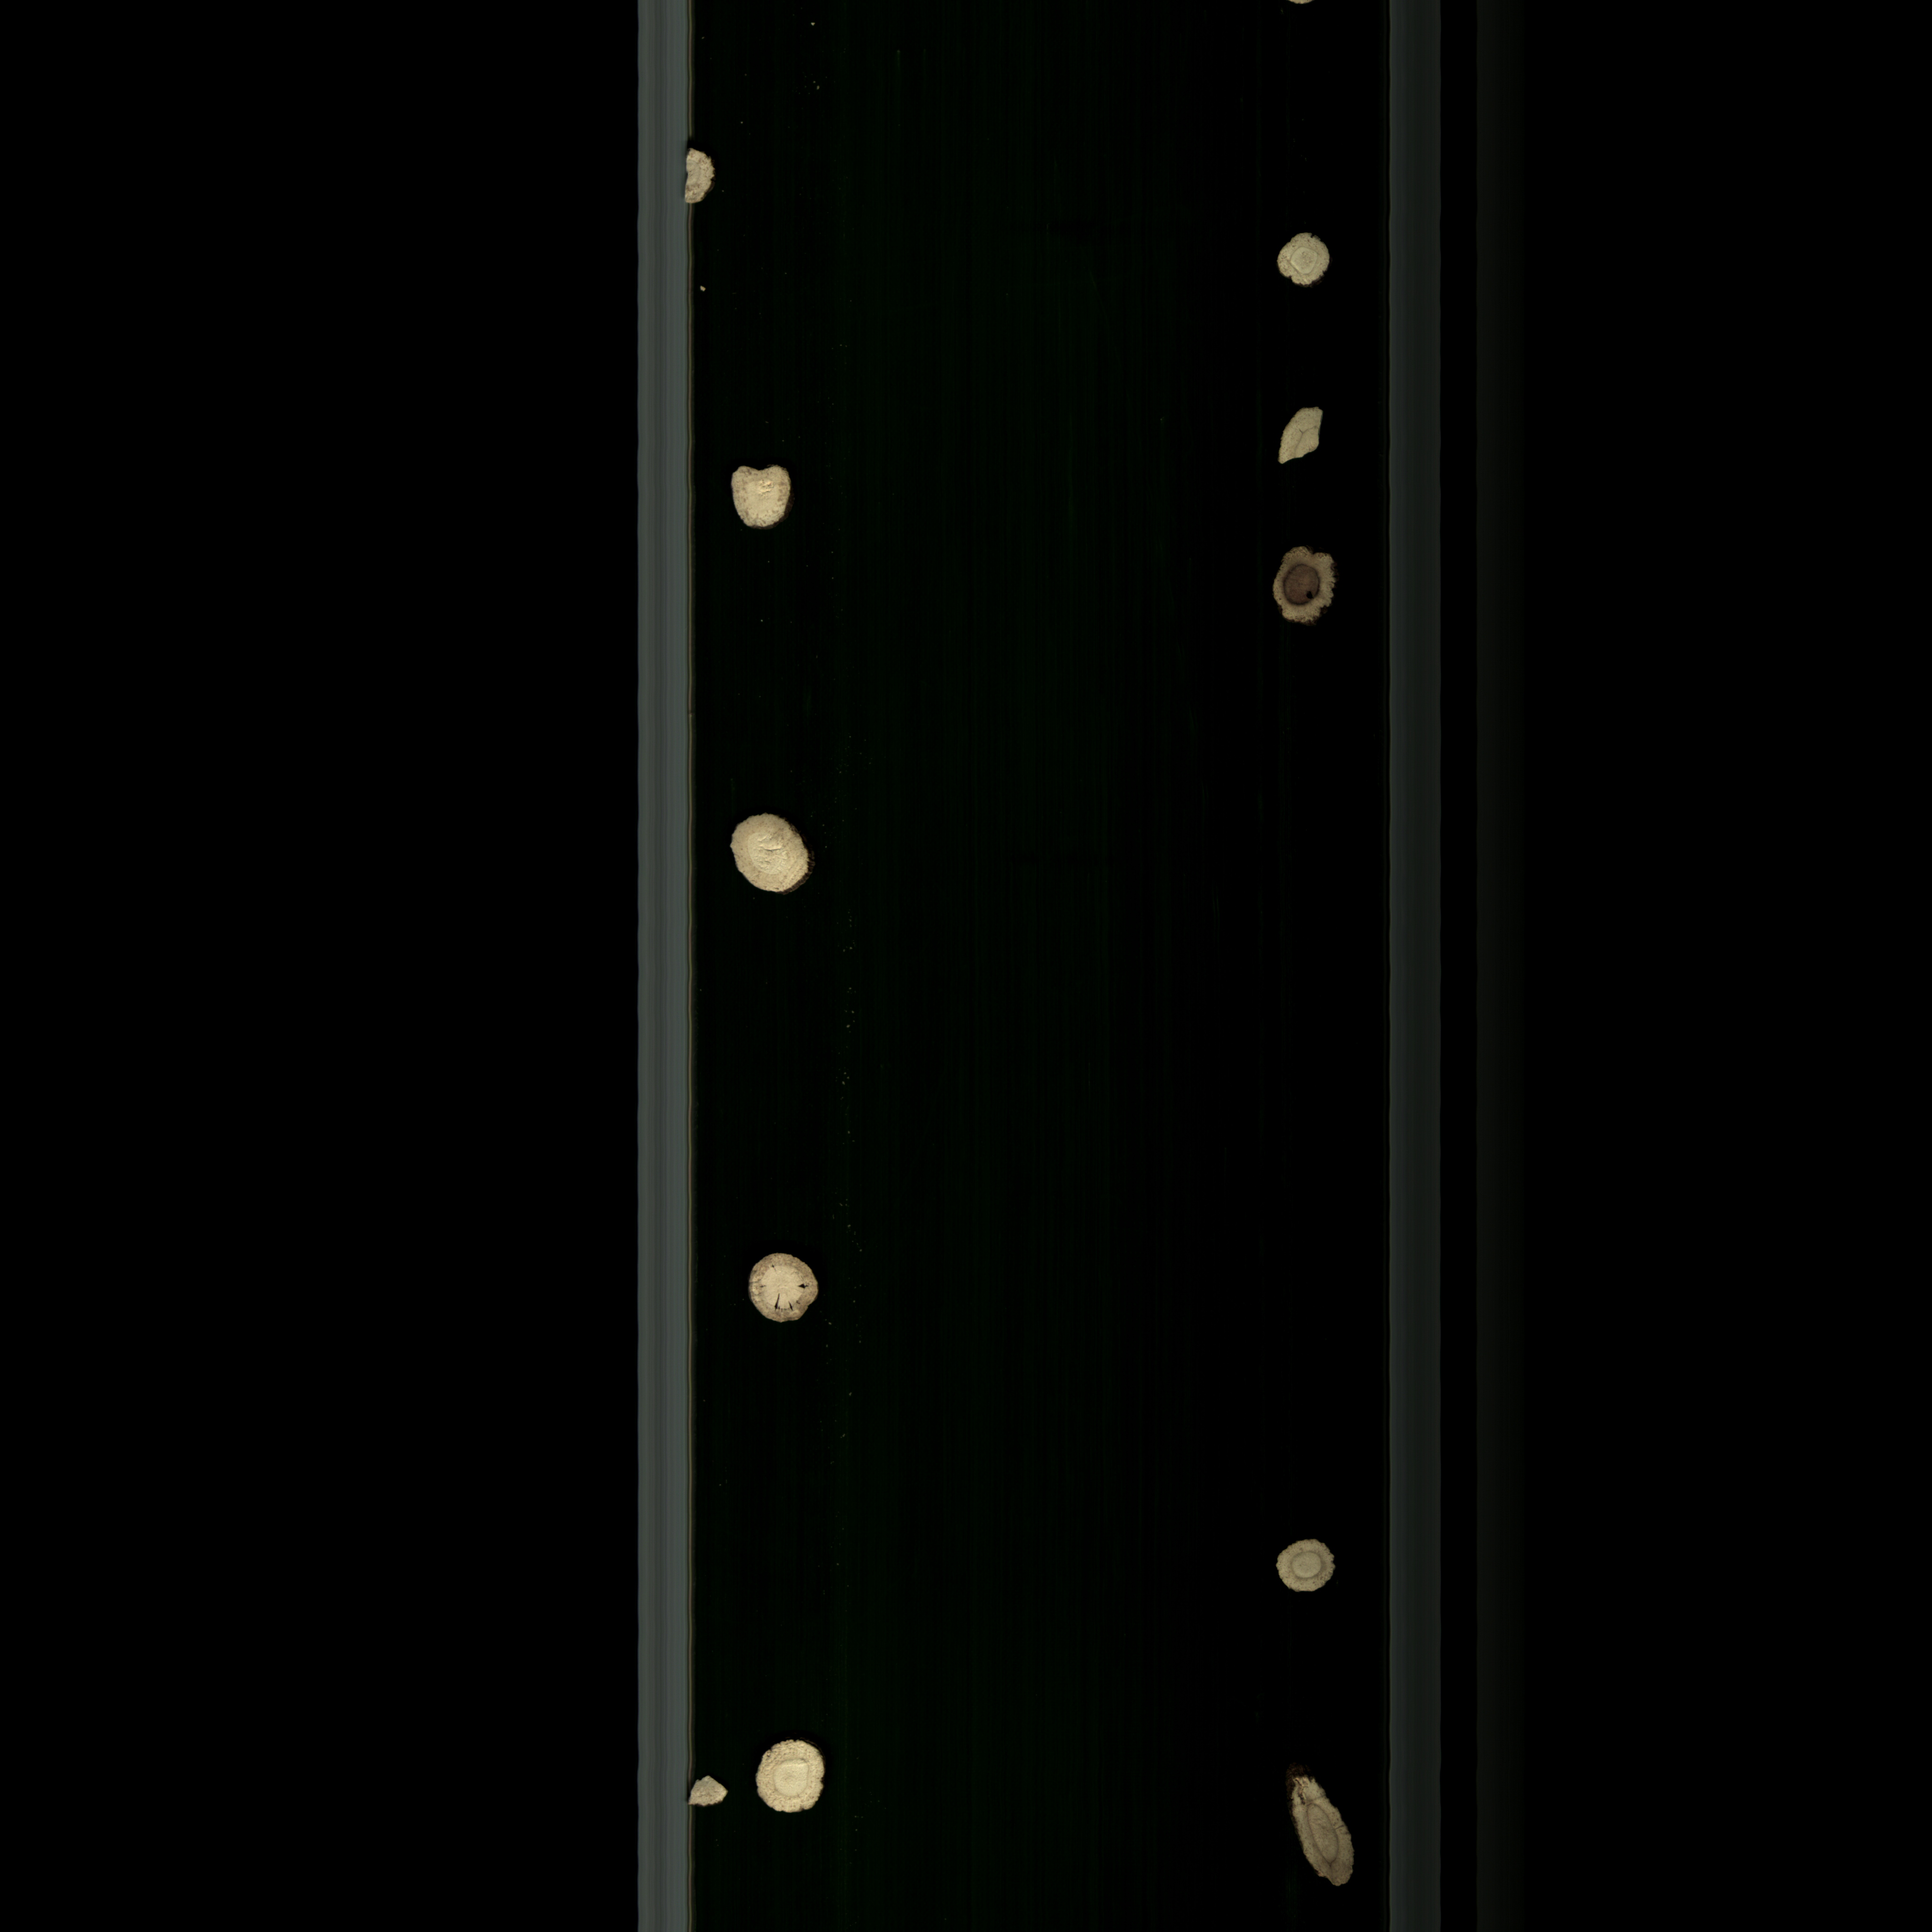debris: (1276, 393, 1338, 481)
distortion: (724, 456, 805, 543)
dreg: (672, 140, 727, 209), (683, 1764, 738, 1817)
hole: (741, 1246, 832, 1345)
moldy: (1274, 1759, 1362, 1900), (1263, 533, 1357, 642)
